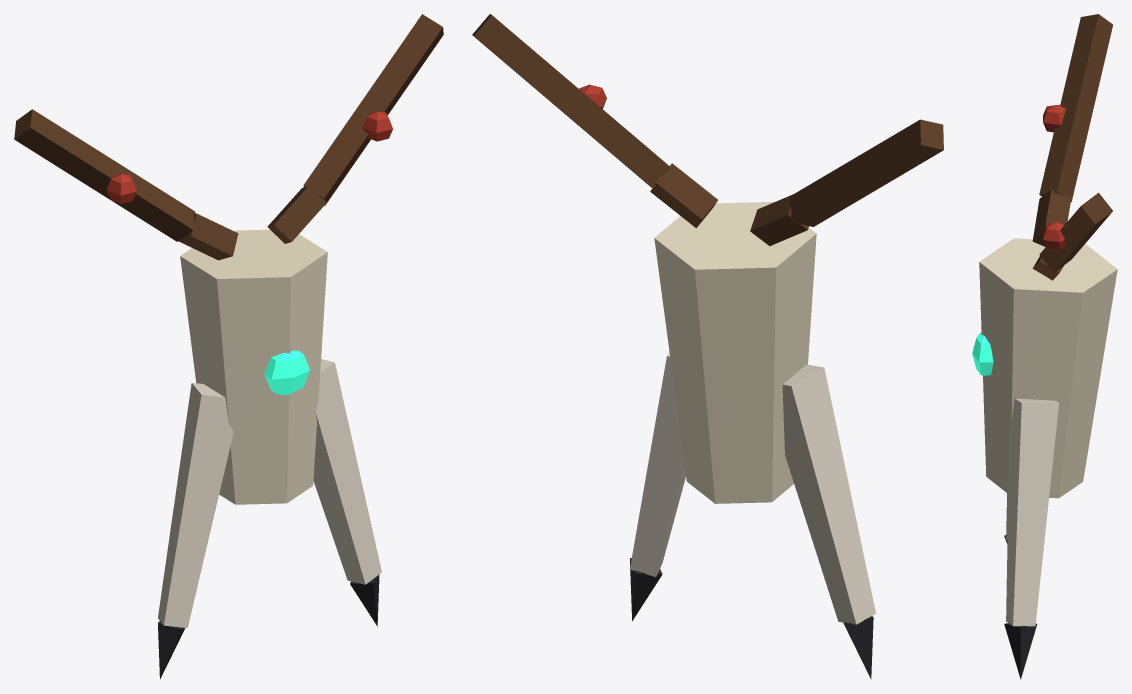
The model's file is shaman_totem.glb.
3 views of the same model, side by side, from view 1: azimuth 30°, elevation 25°; view 2: azimuth 150°, elevation 25°; view 3: azimuth 270°, elevation 25° (orthographic). The views are drawn at different scales.
Parts seen in each view (by area): view 1: shaman_totem; view 2: shaman_totem; view 3: shaman_totem.
Part boxes in pixels (x1,y1,x2,y2): shaman_totem: (14,14,443,679); shaman_totem: (472,14,943,679); shaman_totem: (972,14,1117,679).
Bounding box in the file's own units: 0.3355 × 0.4191 × 0.1049.
